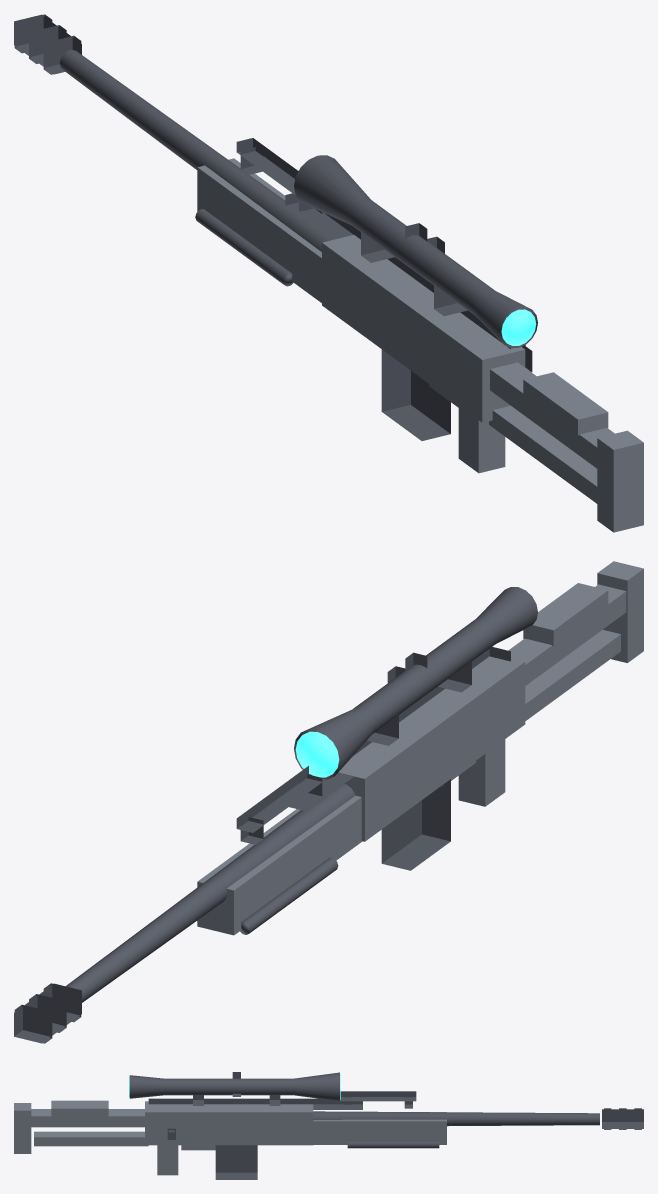
Rendered from FirstTry_Intervention_Sniper.glb.
3 views of the same model, one above another, from view 1: azimuth 30°, elevation 25°; view 2: azimuth 150°, elevation 25°; view 3: azimuth 270°, elevation 25° (orthographic). The views are drawn at different scales.
Parts seen in each view (by area): view 1: FirstTry_SniperRifle; view 2: FirstTry_SniperRifle; view 3: FirstTry_SniperRifle.
Part boxes in pixels (box(x1,y1,x2,y2)): FirstTry_SniperRifle: box(14, 14, 643, 532); FirstTry_SniperRifle: box(14, 561, 643, 1043); FirstTry_SniperRifle: box(14, 1072, 643, 1179).
Size of the model in its own units: 0.123 by 0.2955 by 1.65.
